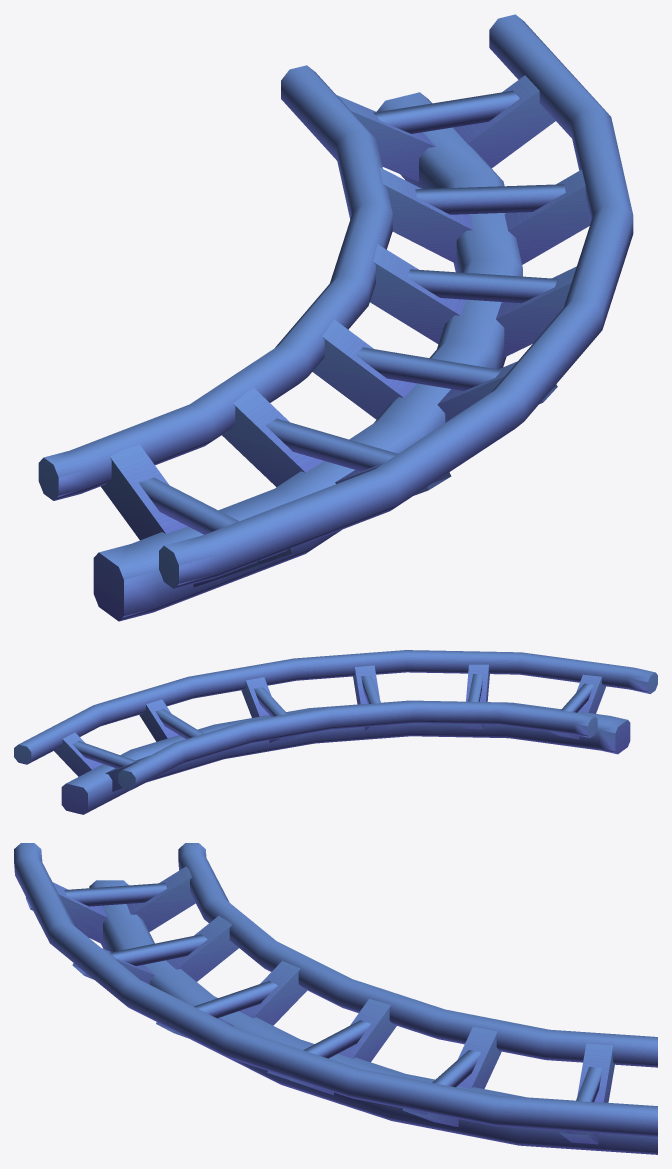
File: coaster-steel-corner-small.glb
3 renders of one model, top to bottom at view 1: azimuth 30°, elevation 25°; view 2: azimuth 150°, elevation 25°; view 3: azimuth 270°, elevation 25°, orthographic. The views are drawn at different scales.
Visible parts, largest first — view 1: coaster-steel-corner-small; view 2: coaster-steel-corner-small; view 3: coaster-steel-corner-small.
Boxes of the visible parts, box(x1,y1,x2,y2) form: coaster-steel-corner-small: box(38, 14, 633, 621); coaster-steel-corner-small: box(14, 650, 657, 814); coaster-steel-corner-small: box(14, 843, 657, 1154).
Size of the model in its own units: 7.05 by 0.9 by 7.05.
1 material, 1 textured.
